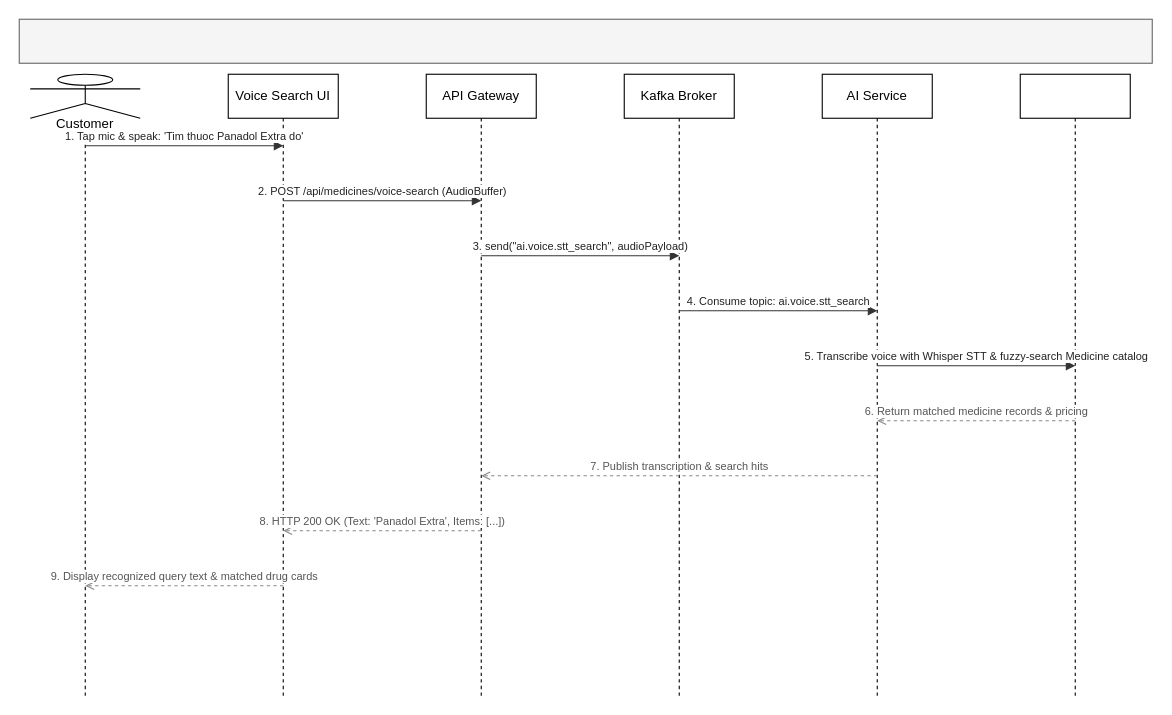
This 1172x715 diagram has some shape labels left out. The shapes that lost their labels are listed below. From the top down, each one's box as (x1, y1, x2, y2) in pixels, then its label:
(18, 18, 1152, 63): Sequence Diagram - UC-81: AI Voice Medicine Search
(1019, 73, 1130, 696): MongoDB Database
